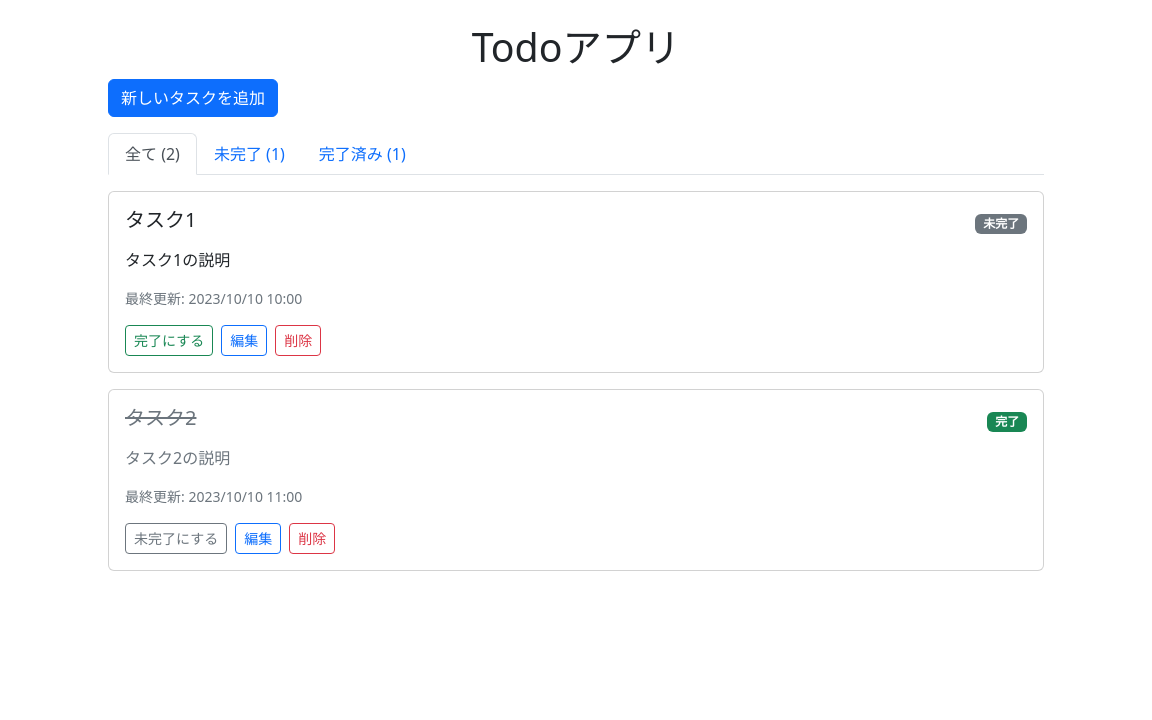
TodoList Component › opens add task modal when add button is clicked
The width and height of the screenshot is (1152, 720).
「新しいタスクを追加」ボタンをクリック
Click the button "新しいタスクを追加". click: (193, 98)
box: [108,79,278,117]
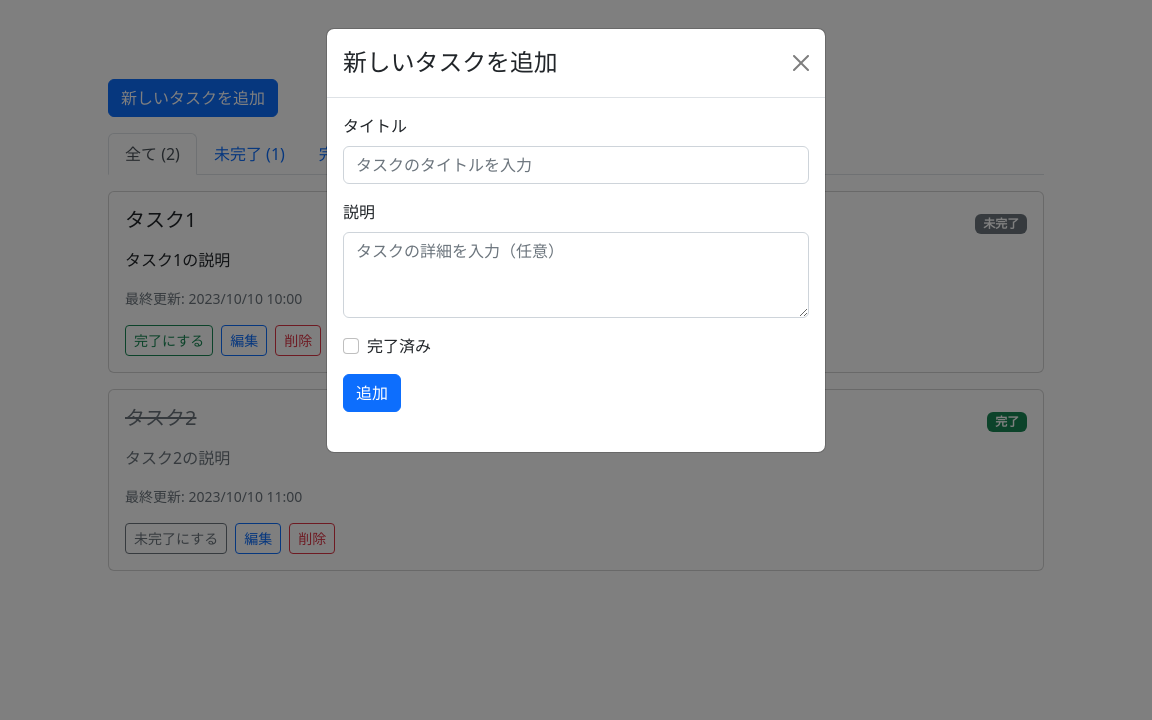
Check: the text "新しいタスクを追加" is shown, box [343,45,558,81]
